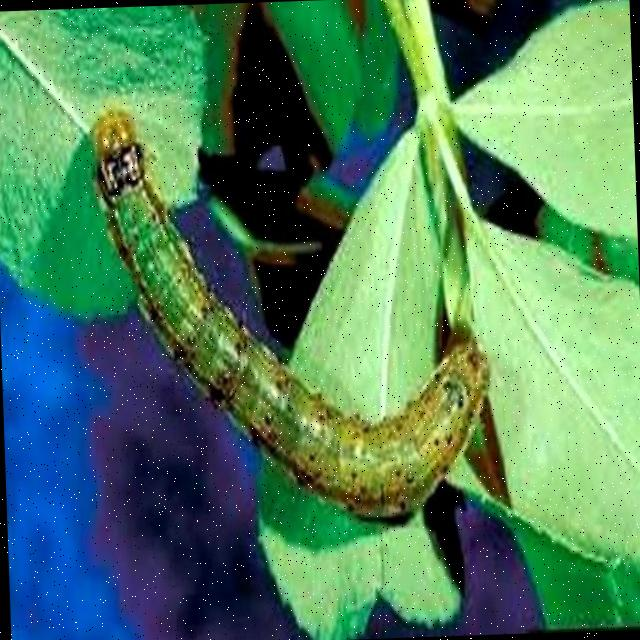worm: (88, 95, 497, 532)
